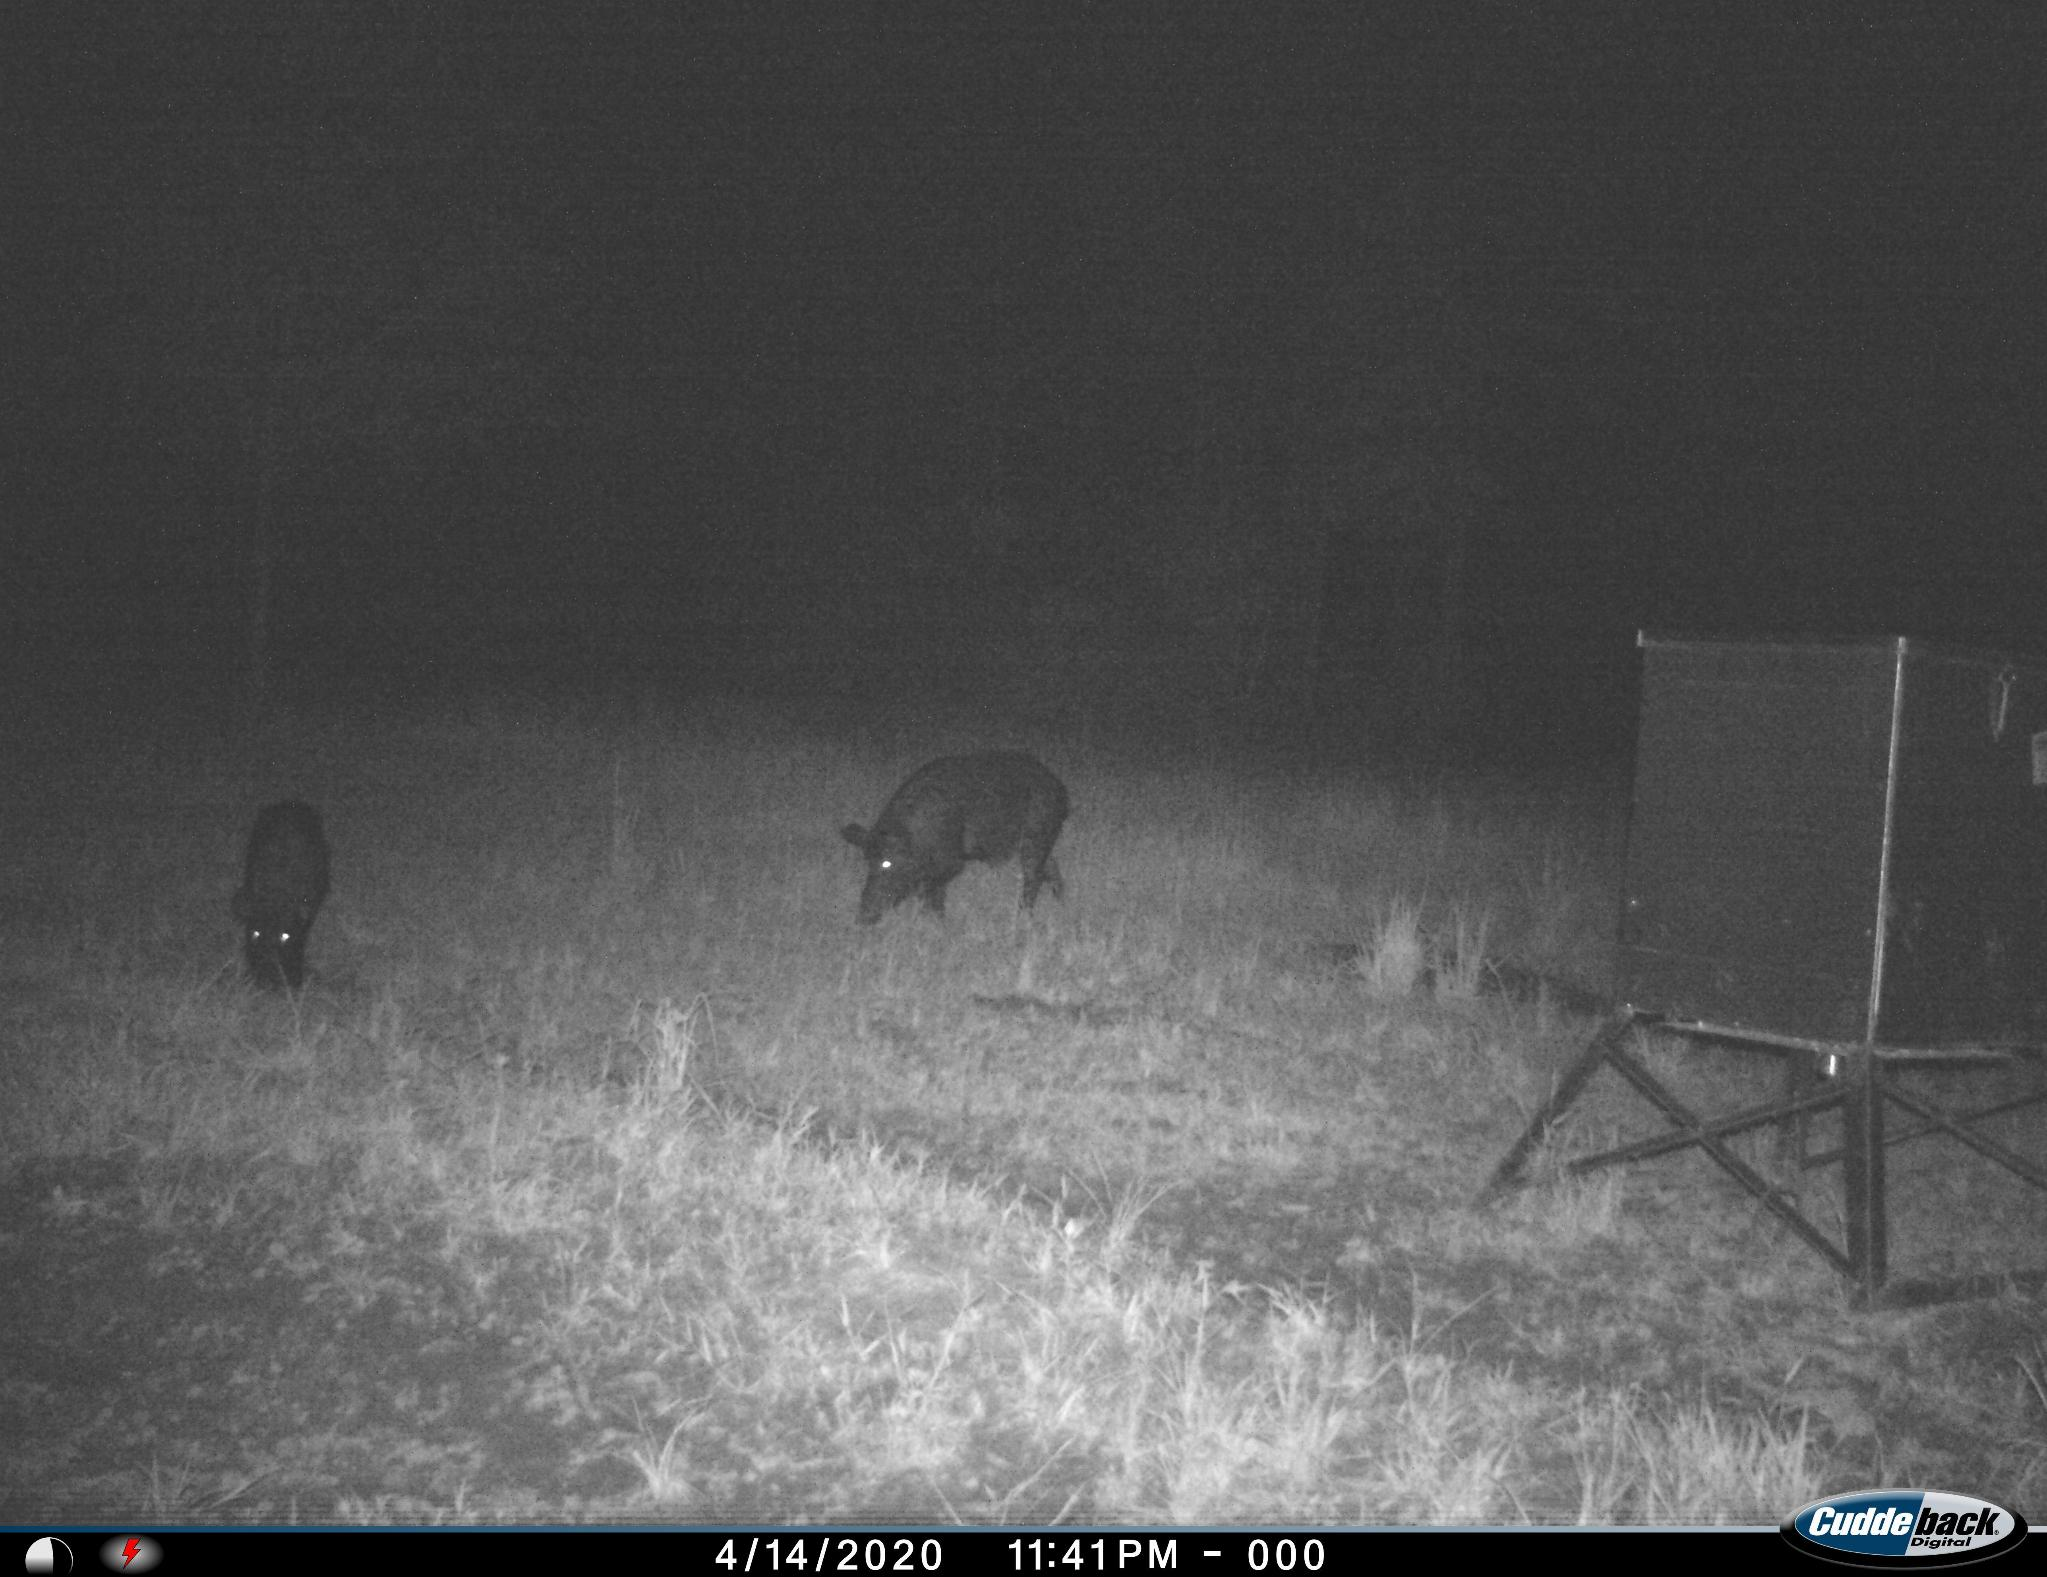Hog: (831, 745, 1111, 952), (217, 792, 349, 1027)
